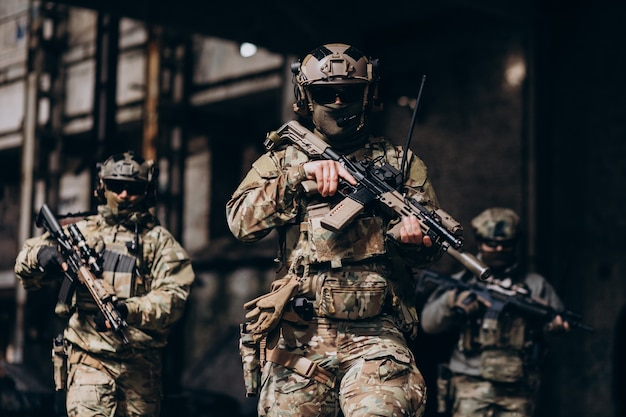gun: (262, 114, 494, 281), (411, 264, 607, 344), (35, 202, 132, 345)
